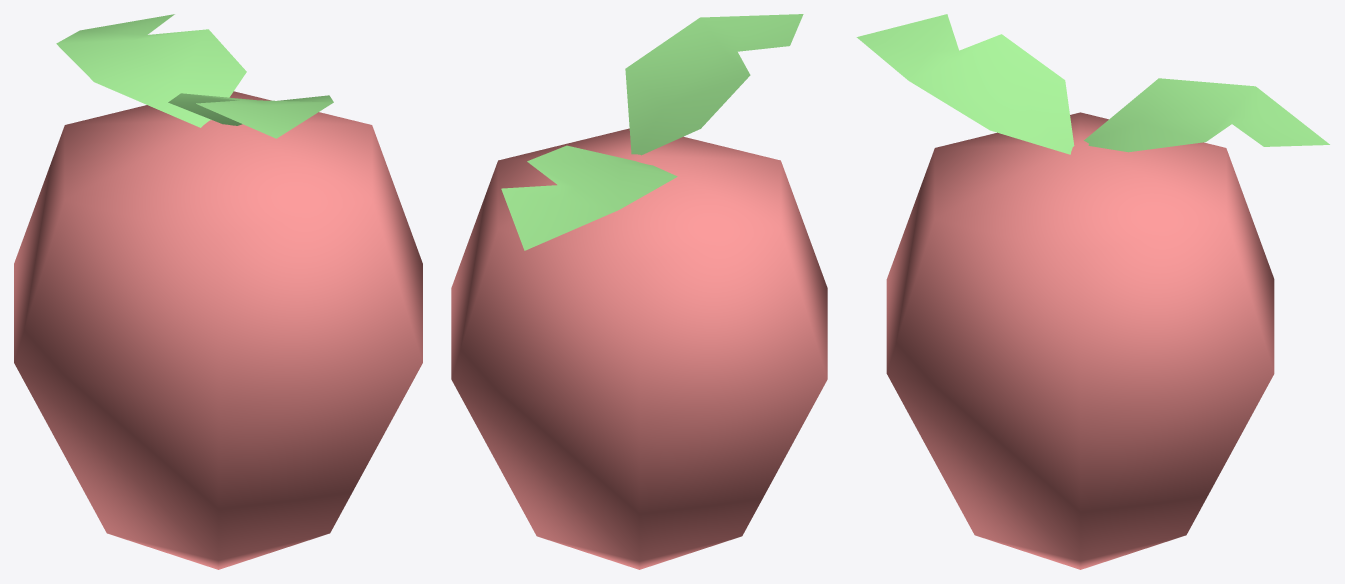
File: strawberry.FBX
3 views of the same model, side by side, from view 1: azimuth 30°, elevation 25°; view 2: azimuth 150°, elevation 25°; view 3: azimuth 270°, elevation 25° (orthographic). The views are drawn at different scales.
Visible parts, largest first — view 1: Line001; view 2: Line001; view 3: Line001.
Boxes of the visible parts, x1,y1,x2,y2 form: Line001: (14,14,422,569); Line001: (451,14,827,569); Line001: (856,14,1329,569).
Size of the model in its own units: 28.7 by 36.28 by 30.4.
